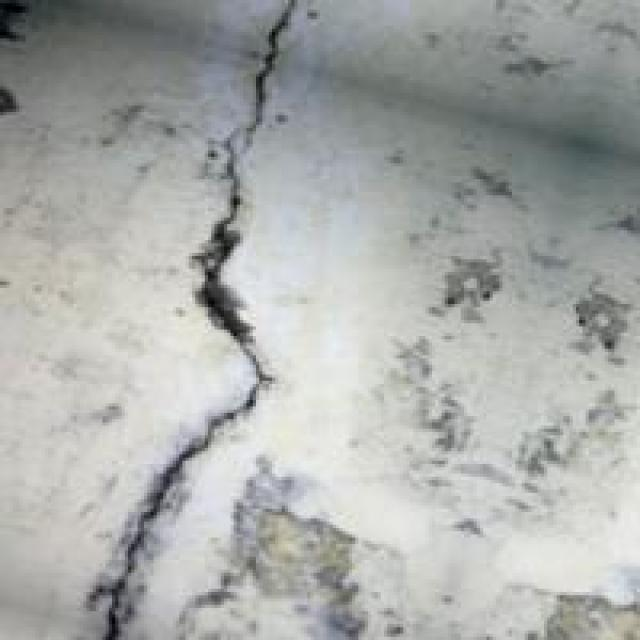crack: (70, 0, 342, 640)
